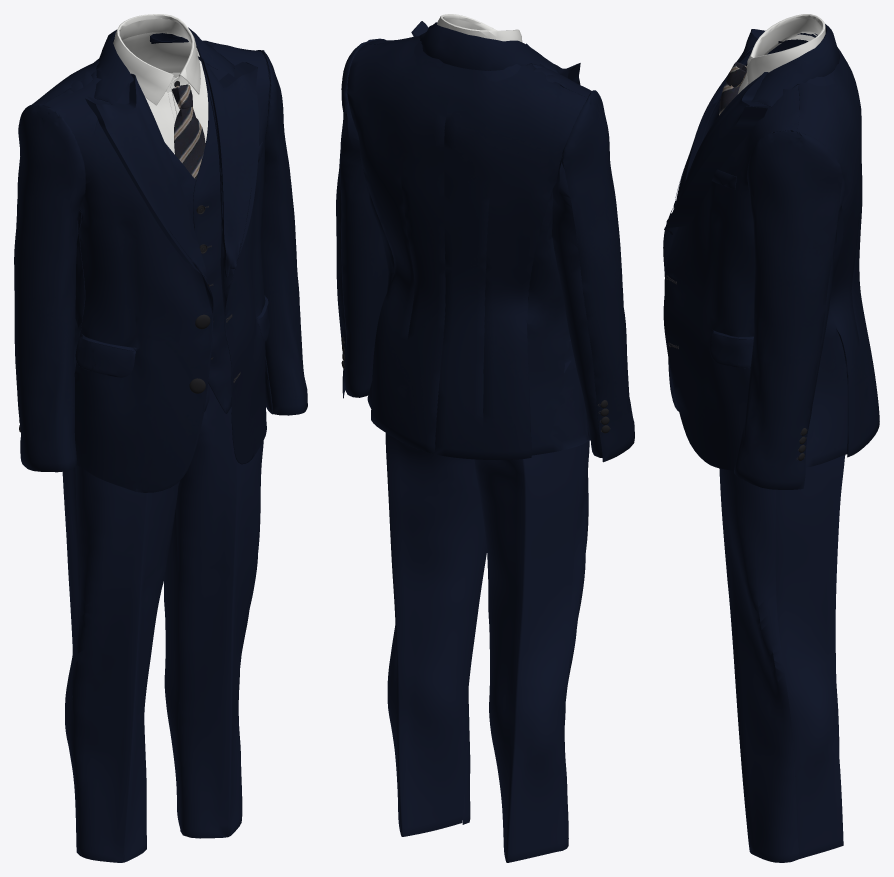
File: MW_Tailleur_suit_v4_blender_collarfix4_peak_step2.glb
3 views of the same model, side by side, from view 1: azimuth 30°, elevation 25°; view 2: azimuth 150°, elevation 25°; view 3: azimuth 270°, elevation 25° (orthographic). The views are drawn at different scales.
Visible parts, largest first — view 1: Jacket, Trousers, Shirt, Waistcoat, Tie, Trim; view 2: Jacket, Trousers, Shirt, Waistcoat; view 3: Jacket, Trousers, Shirt, Tie.
Part boxes in pixels (box(x1,y1,x2,y2)): Jacket: box(14, 27, 307, 492); Trousers: box(62, 383, 263, 862); Shirt: box(113, 14, 208, 154); Waistcoat: box(75, 58, 231, 413); Tie: box(172, 84, 205, 179); Trim: box(19, 81, 210, 432); Jacket: box(336, 21, 634, 462); Trousers: box(385, 339, 589, 862); Shirt: box(437, 14, 522, 41); Waistcoat: box(414, 41, 521, 81); Jacket: box(663, 24, 879, 489); Trousers: box(719, 455, 845, 862); Shirt: box(737, 14, 825, 94); Tie: box(719, 62, 746, 115).
Size of the model in its own units: 0.5389 by 1.5 by 0.3678.
8 materials, 4 textured.
